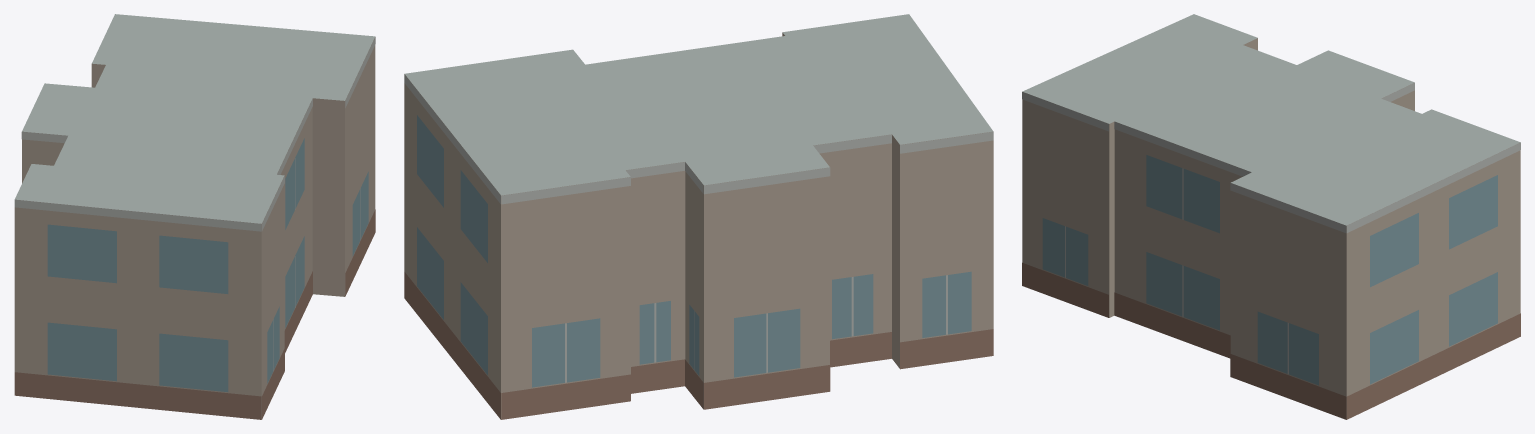
File: survey-upis-32810051.glb
The picture shows the model from 3 angles, left to right: view 1: azimuth 30°, elevation 25°; view 2: azimuth 150°, elevation 25°; view 3: azimuth 270°, elevation 25°; orthographic projection. The views are drawn at different scales.
Parts seen in each view (by area): view 1: survey-upis-32810051.tmp; view 2: survey-upis-32810051.tmp; view 3: survey-upis-32810051.tmp.
Boxes of the visible parts, left/top/right/bottom form: survey-upis-32810051.tmp: left=14, top=14, right=375, bottom=419; survey-upis-32810051.tmp: left=404, top=14, right=993, bottom=419; survey-upis-32810051.tmp: left=1022, top=14, right=1520, bottom=419.
Size of the model in its own units: 14.27 by 6.1 by 14.2.
